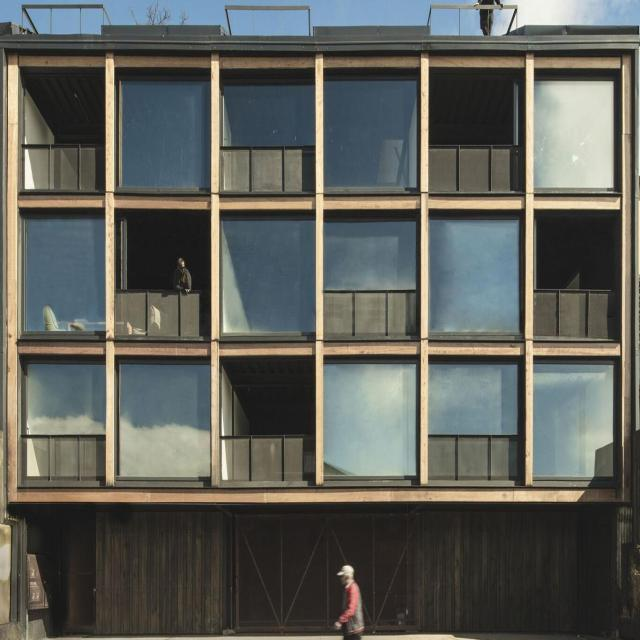railing: (322, 290, 415, 341), (216, 442, 315, 486), (529, 291, 614, 342), (216, 147, 312, 192), (115, 296, 208, 342), (425, 439, 515, 485), (24, 141, 101, 190), (427, 149, 515, 191), (20, 436, 101, 481)
window: (222, 213, 314, 334), (324, 74, 417, 192), (324, 358, 418, 473), (118, 357, 210, 473), (115, 73, 209, 185), (430, 216, 520, 330), (22, 205, 105, 327), (532, 360, 615, 475), (534, 75, 616, 182), (324, 214, 416, 286), (429, 357, 517, 431), (220, 81, 312, 143), (26, 358, 104, 430)
